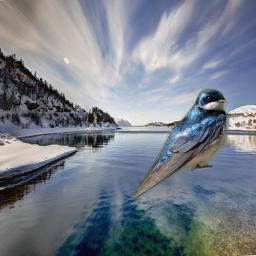Swallow: (132, 86, 230, 201), (13, 60, 43, 84)
